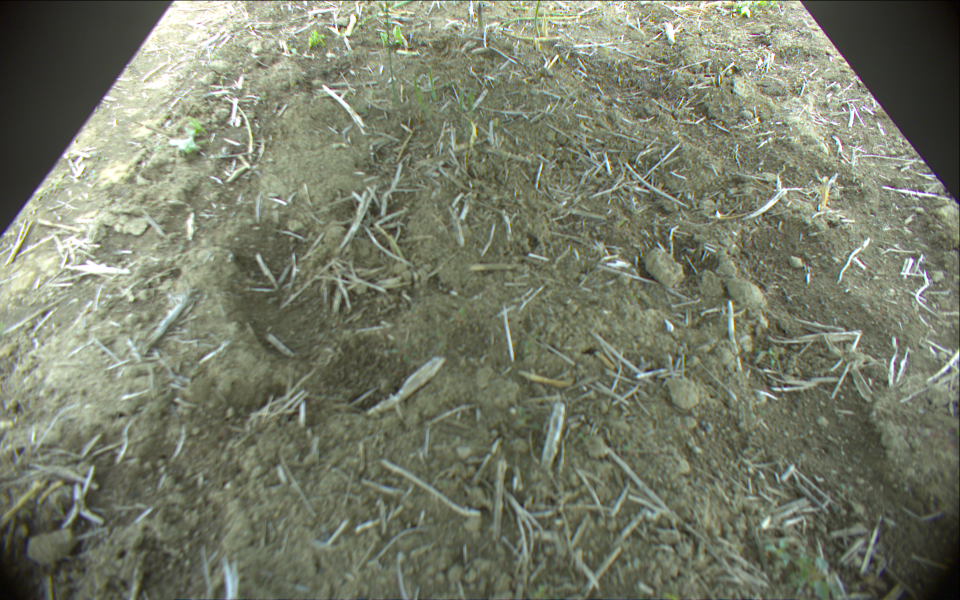aspa: (500, 13, 579, 28), (476, 1, 488, 33), (533, 1, 540, 35)
